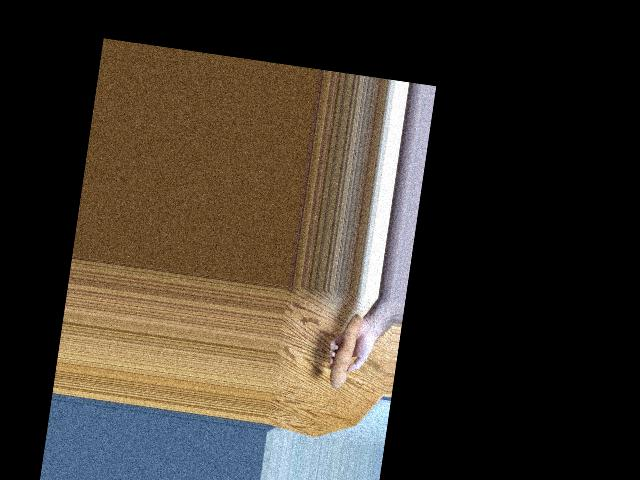sweet_potato: (323, 314, 363, 391)
